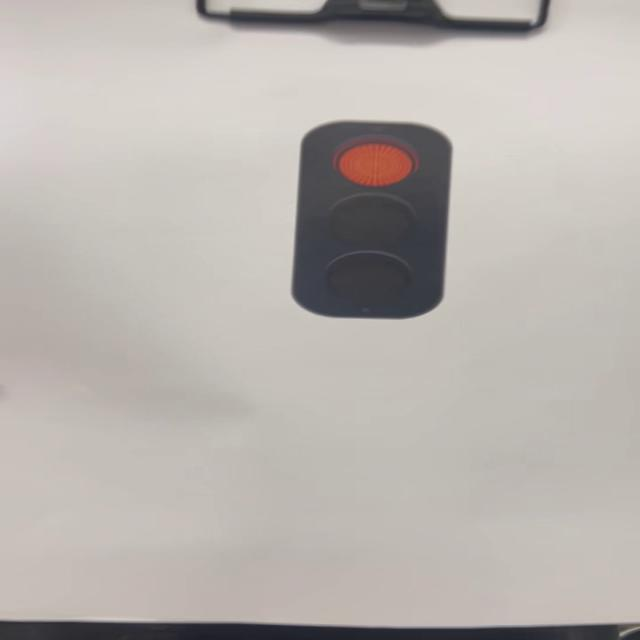red: (291, 121, 450, 325)
